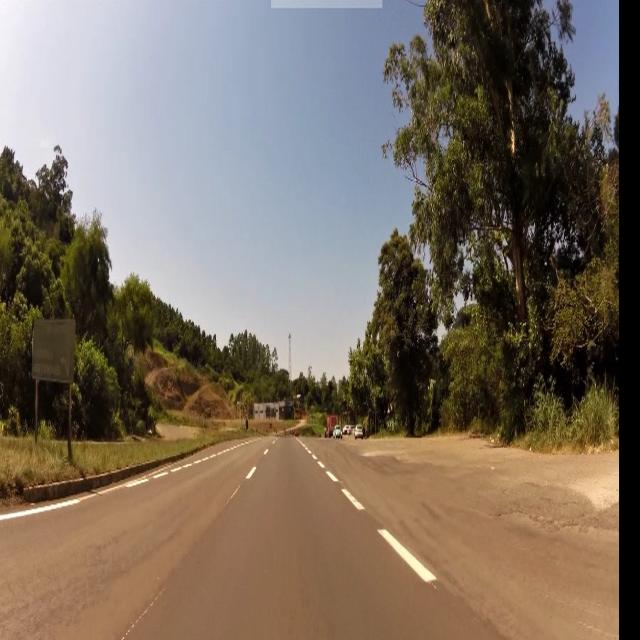I-4: (36, 323, 72, 383)
